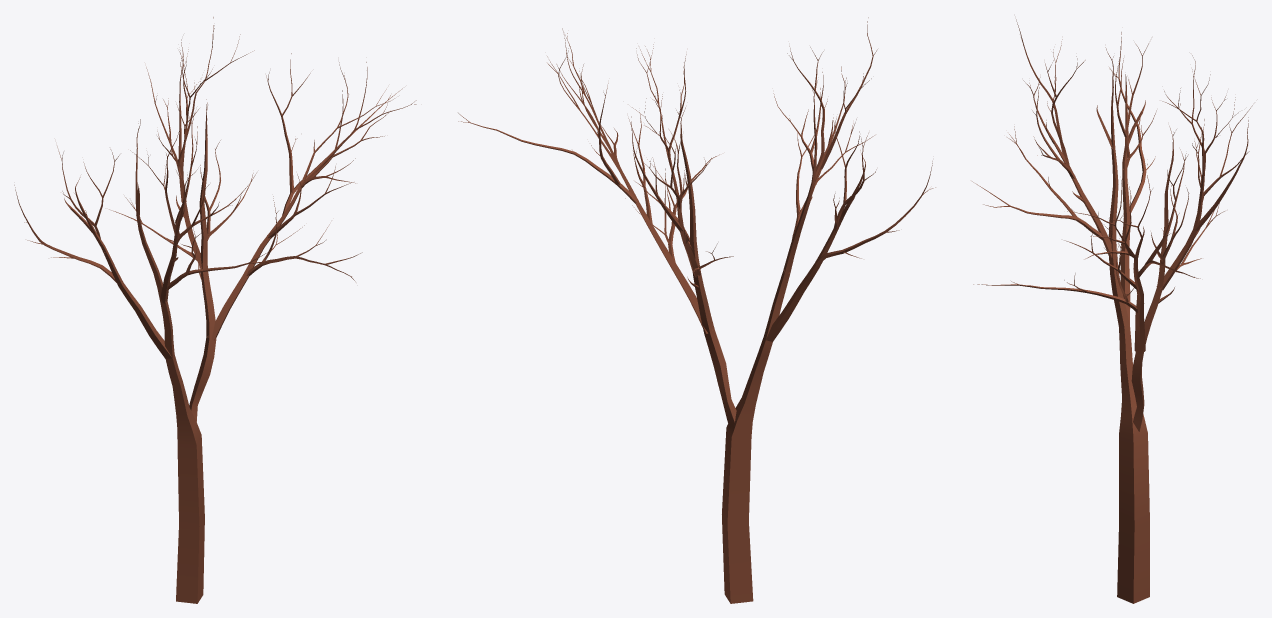
File: Tree_01.fbx
The picture shows the model from 3 angles, left to right: view 1: azimuth 30°, elevation 25°; view 2: azimuth 150°, elevation 25°; view 3: azimuth 270°, elevation 25°; orthographic projection. The views are drawn at different scales.
Parts seen in each view (by area): view 1: Tree_01; view 2: Tree_01; view 3: Tree_01.
Boxes of the visible parts, x1=… form: Tree_01: x1=14, y1=17, x2=416, y2=603; Tree_01: x1=458, y1=17, x2=935, y2=603; Tree_01: x1=972, y1=19, x2=1252, y2=603.
Bounding box in the file's own units: 759 × 921 × 432.
